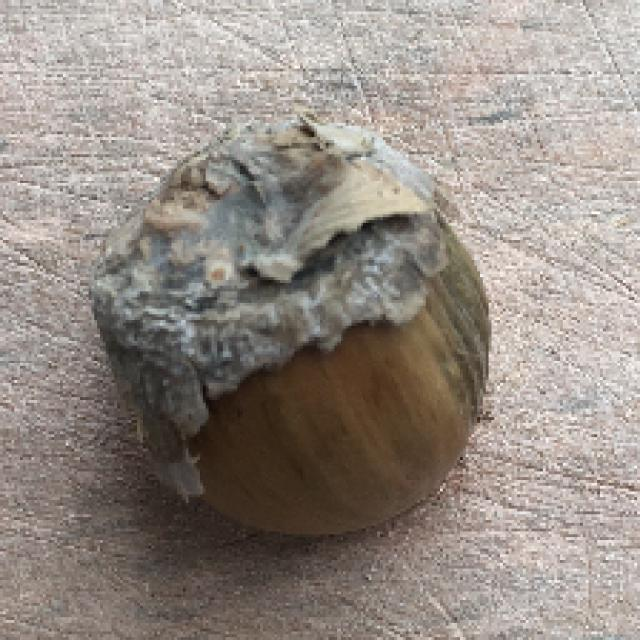damagedHazelnut: (92, 123, 498, 552)
